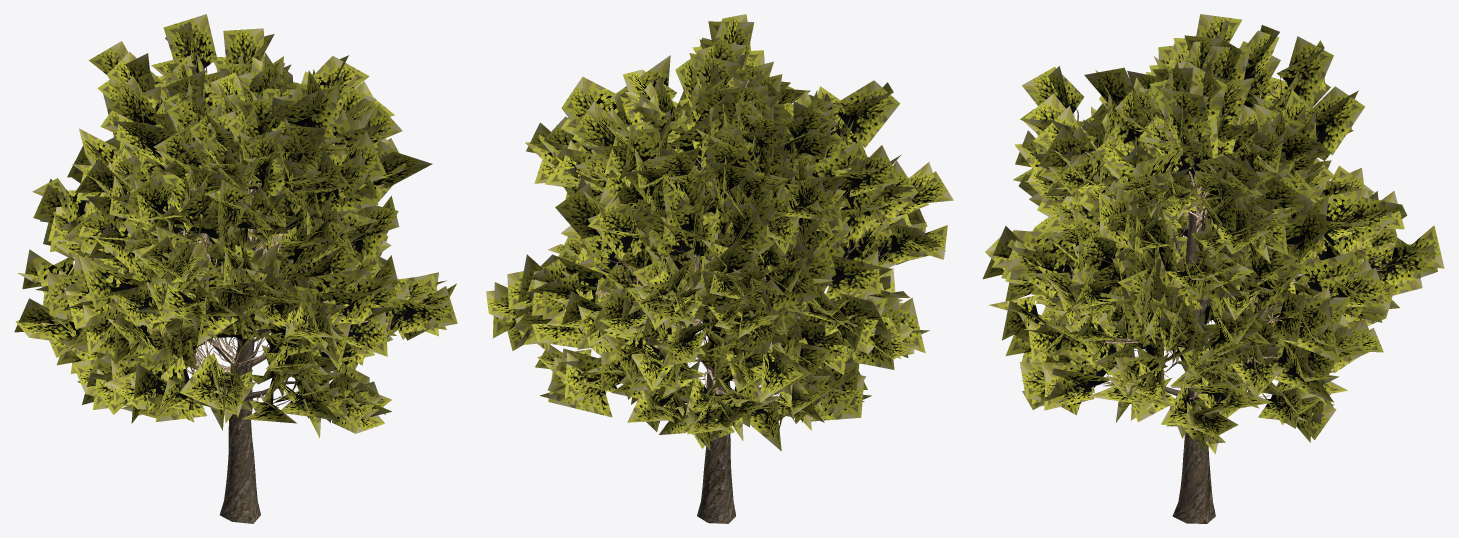
The model's file is tree-b.glb.
3 renders of one model, left to right at view 1: azimuth 30°, elevation 25°; view 2: azimuth 150°, elevation 25°; view 3: azimuth 270°, elevation 25°, orthographic.
Visible parts, largest first — view 1: Leaf_6.002; view 2: Leaf_6.002; view 3: Leaf_6.002.
Part boxes in pixels (x1,y1,x2,y2): Leaf_6.002: [14, 14, 457, 523]; Leaf_6.002: [486, 14, 953, 523]; Leaf_6.002: [982, 14, 1444, 523].
Size of the model in its own units: 4.28 by 4.63 by 4.18.
Materials: 3 (3 with a texture image).
